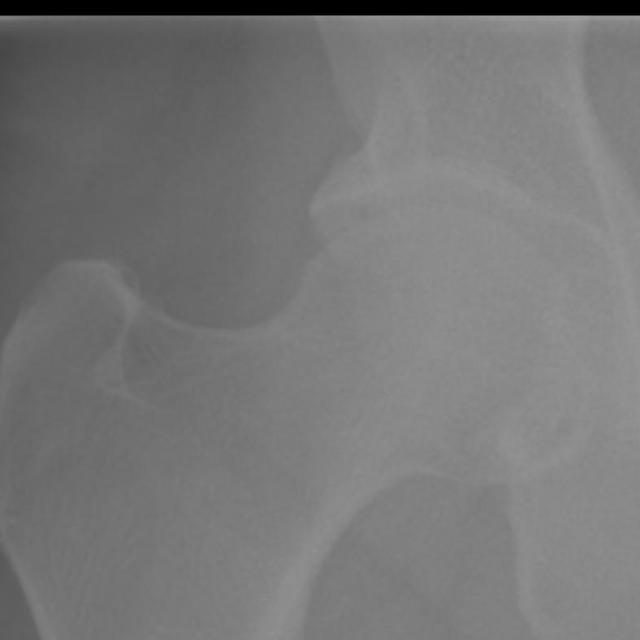Fitted_femural_head: (290, 205, 432, 290)
